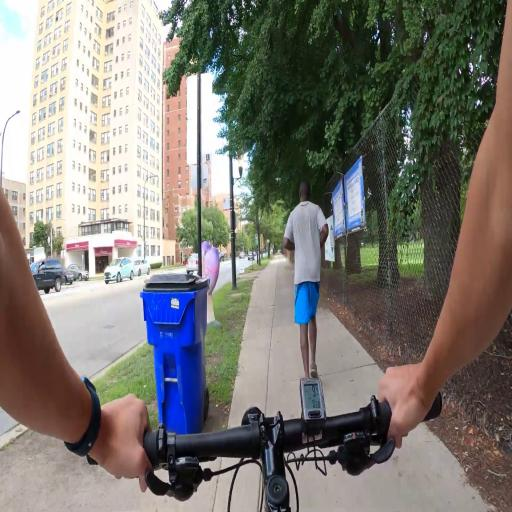Street_Light: (0, 98, 26, 186), (138, 169, 159, 269)
